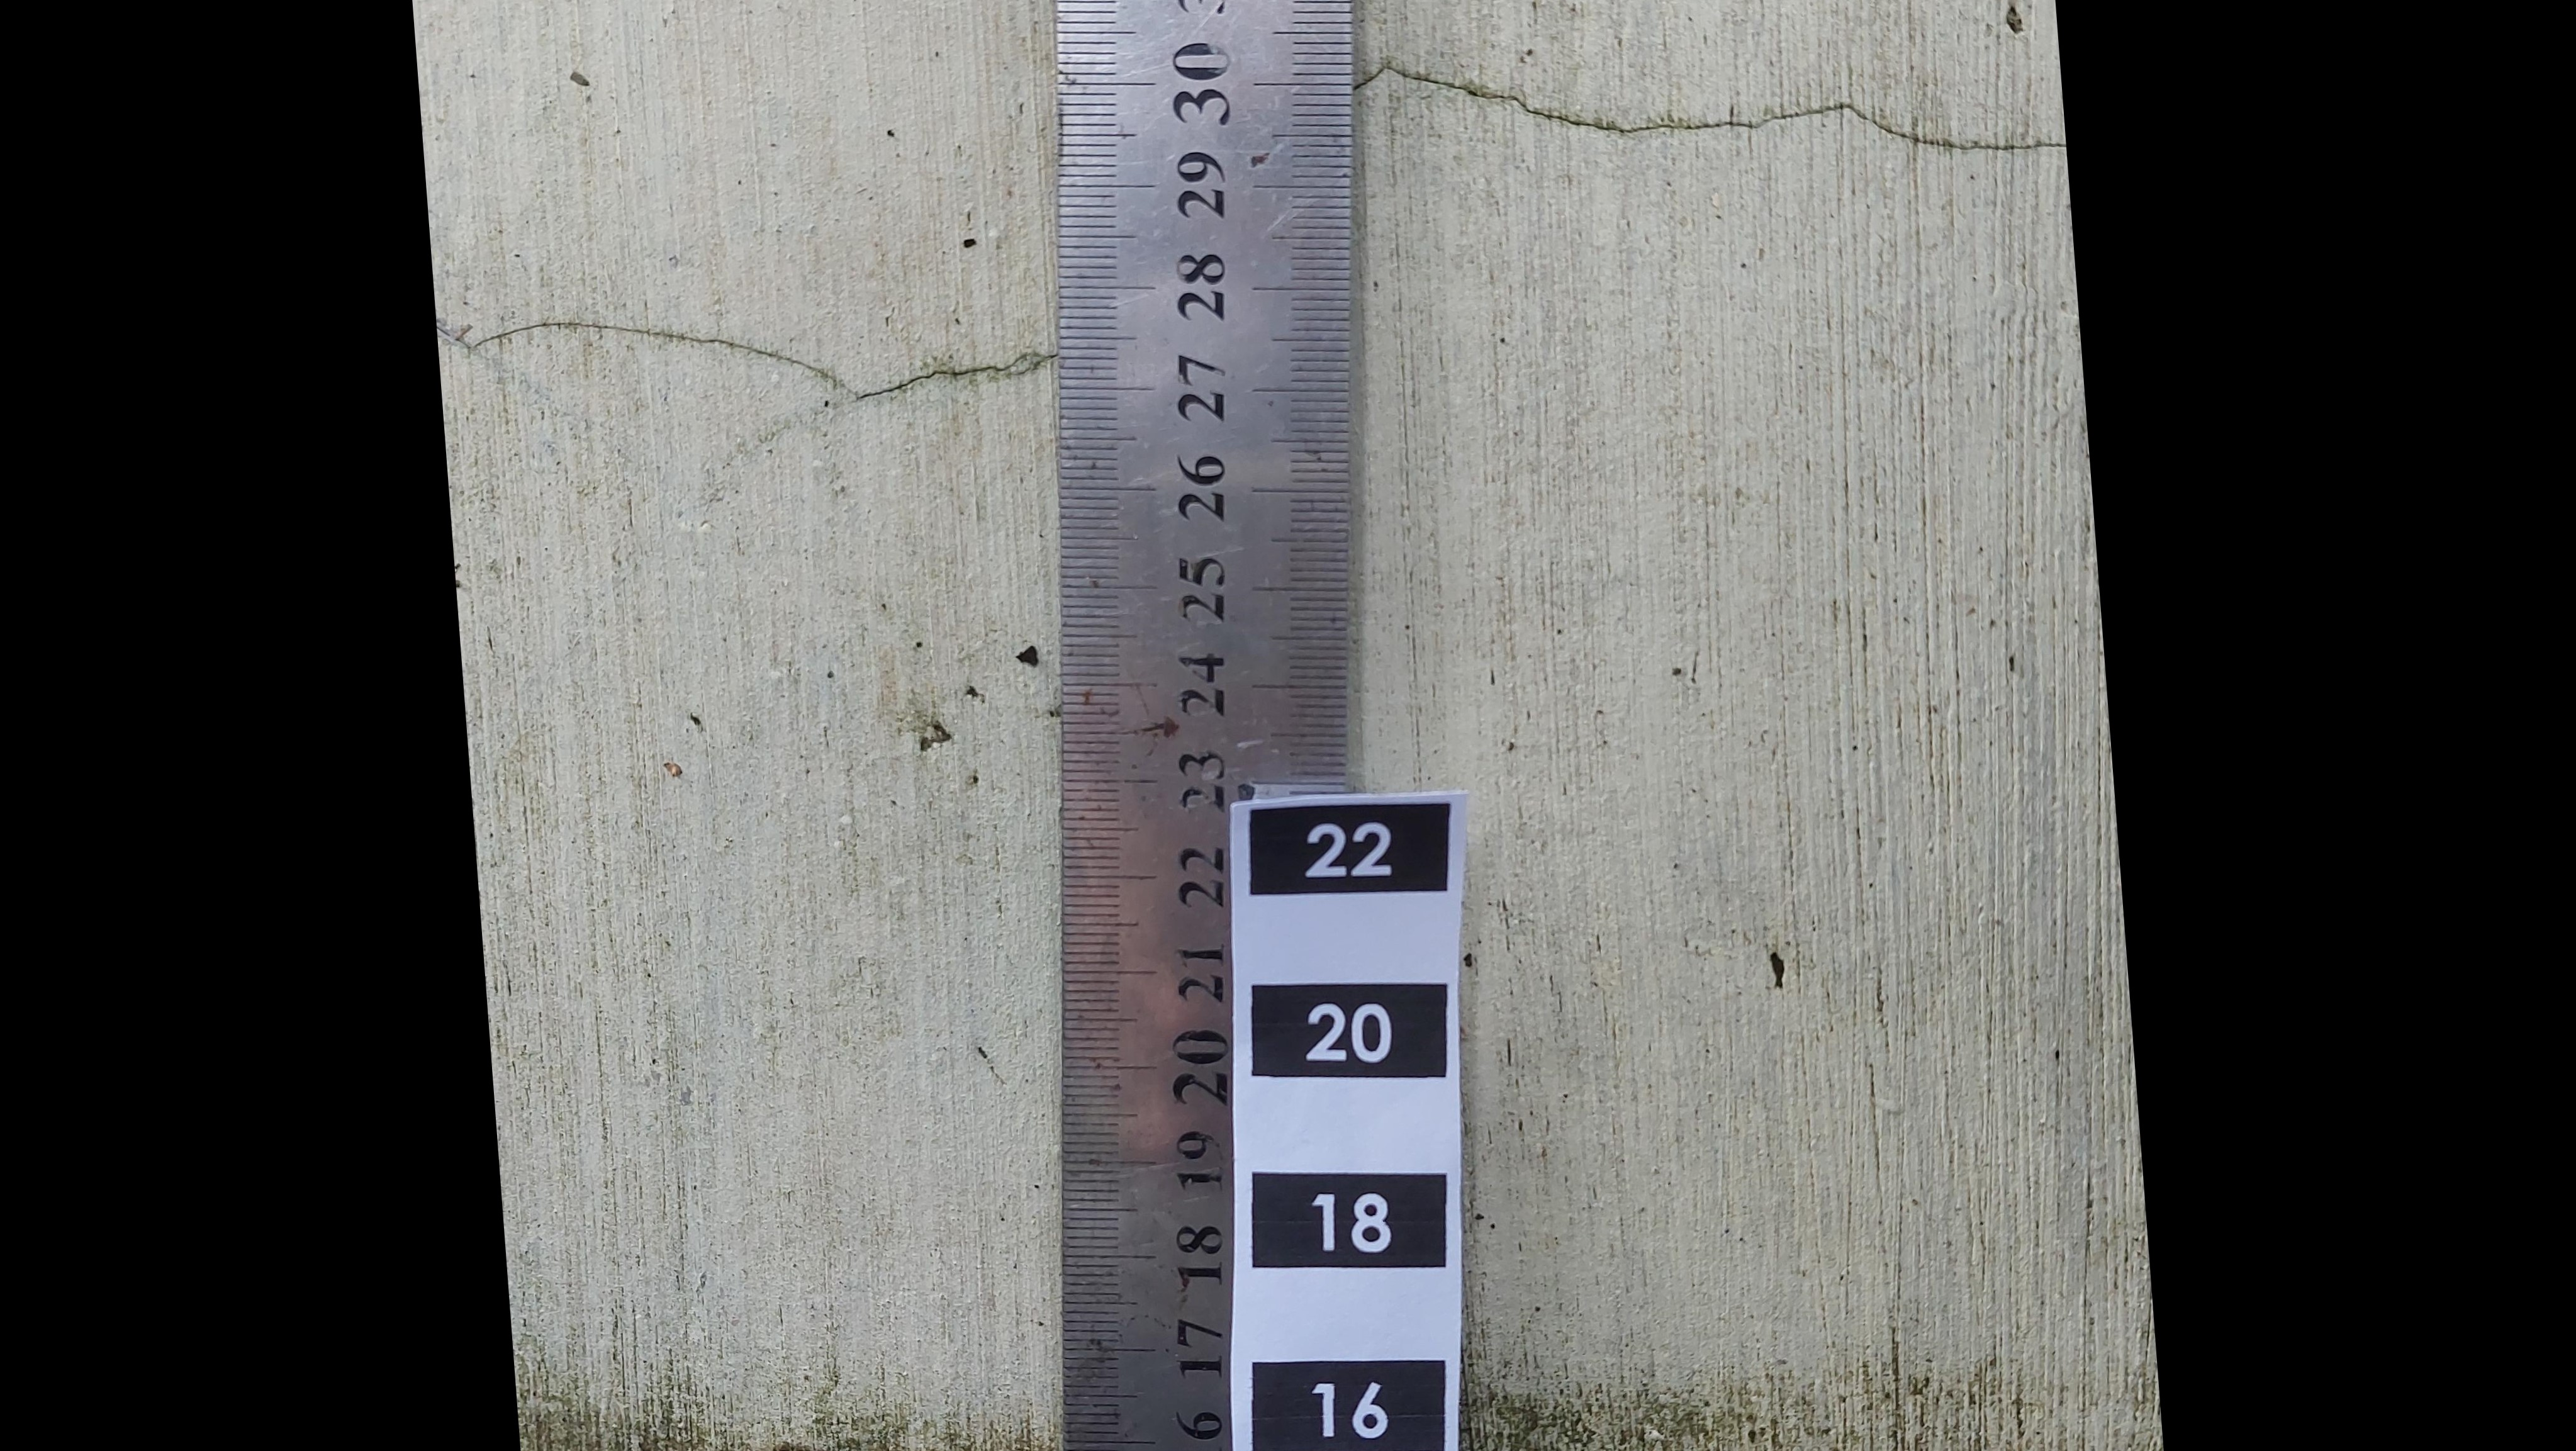kotak_2x1: (1251, 1171, 1442, 1265), (1253, 982, 1445, 1074), (1249, 803, 1445, 894)
